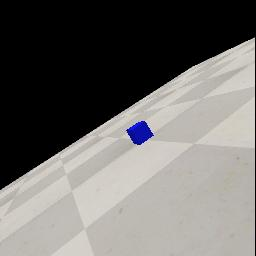box: (126, 121, 154, 145)
